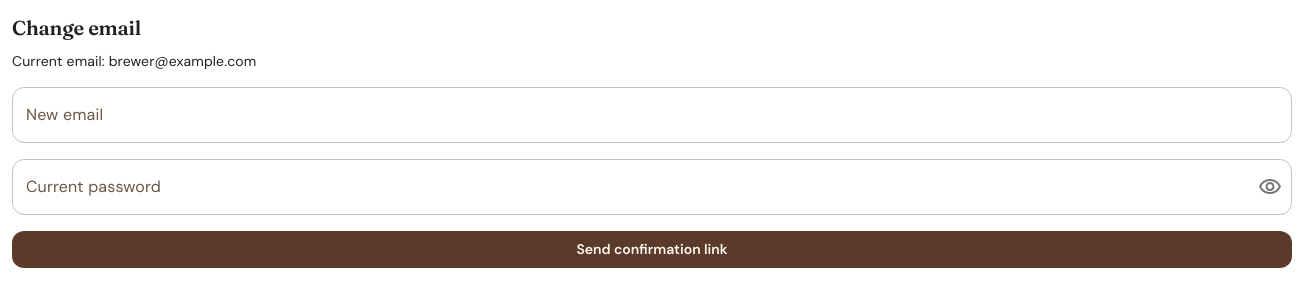
Scenario: ChangeEmailForm › maps server field errors onto the fields
Type "brewer@example.com" into the field labelled "New email" at (652, 115), box top-left (12, 87), bottom-right (1292, 143)
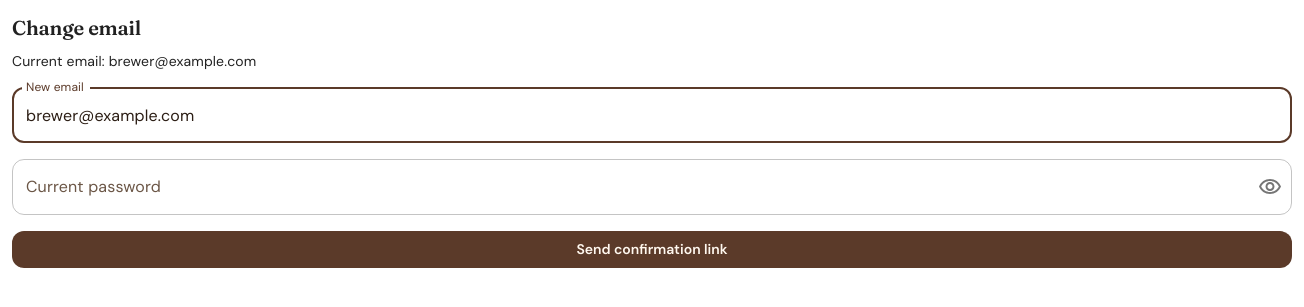
Type "brew-test-pass-001" into the password field labelled "Current password" at (627, 187), box top-left (12, 159), bottom-right (1242, 215)
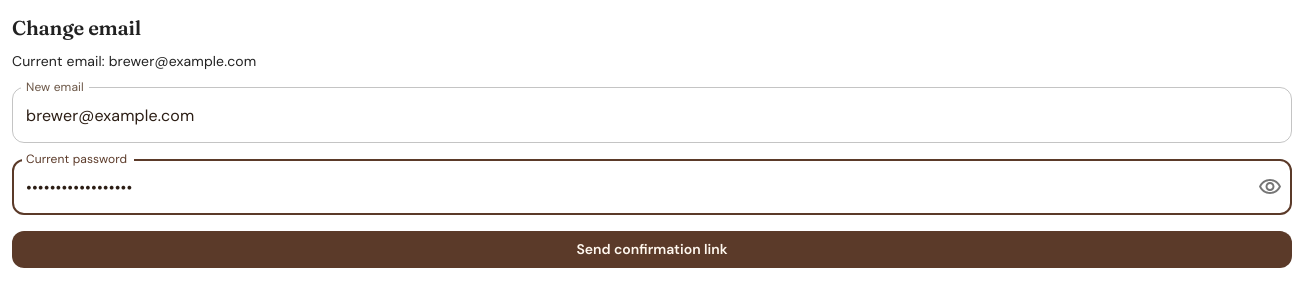
Click the button "Send confirmation link" at (652, 249), box top-left (12, 231), bottom-right (1292, 268)
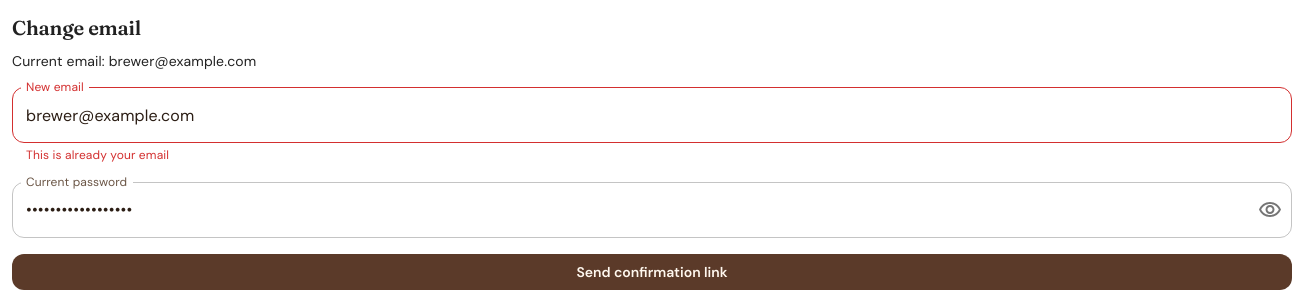
Result: the text "This is already your email" is shown at top-left (26, 147), bottom-right (169, 163)
